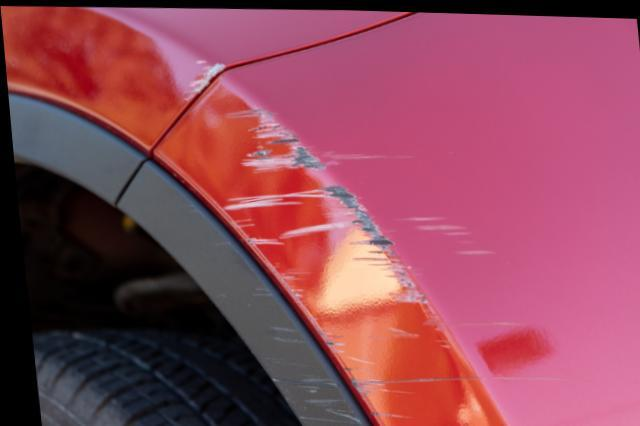scratch: (215, 94, 568, 426), (240, 274, 354, 426), (177, 57, 230, 99)
